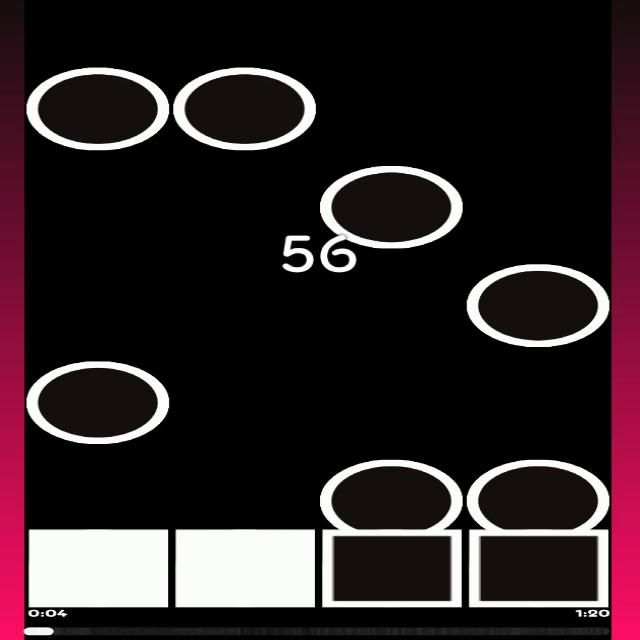note: (26, 62, 172, 150), (463, 264, 611, 348), (173, 66, 319, 150), (319, 166, 460, 251), (26, 360, 170, 442), (316, 455, 466, 530), (470, 458, 610, 529)
